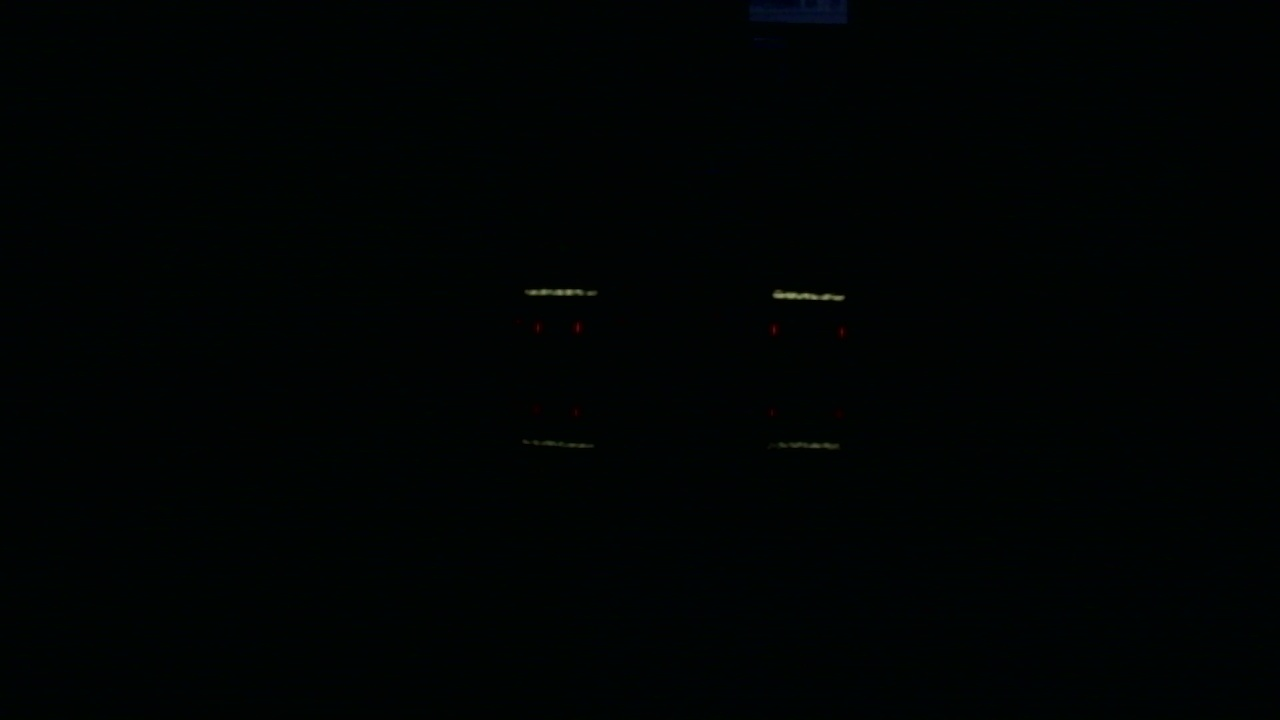lamp: (839, 322, 845, 338), (771, 322, 775, 339), (576, 322, 582, 329), (536, 323, 540, 329)
pair1: (537, 324, 580, 330)
pair2: (771, 323, 845, 339)
